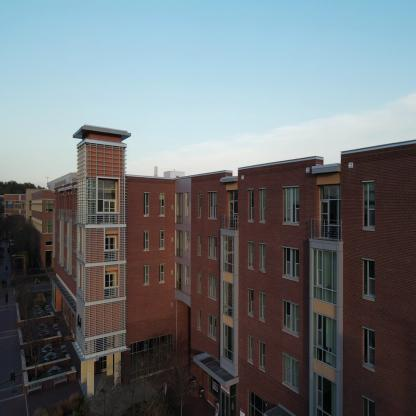Wolf Ridge: (41, 99, 416, 401)
